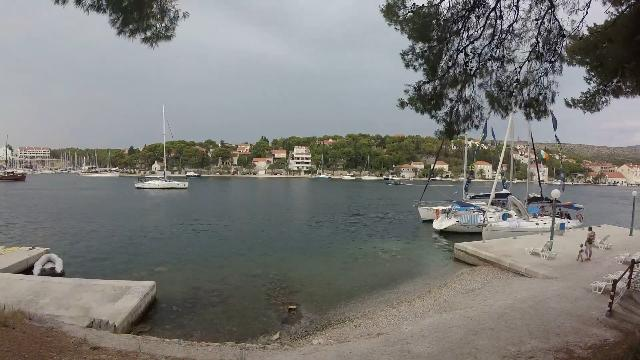Freighter: (0, 158, 34, 188)
Sailboat: (128, 173, 195, 192)
speedboat: (382, 177, 410, 189)
